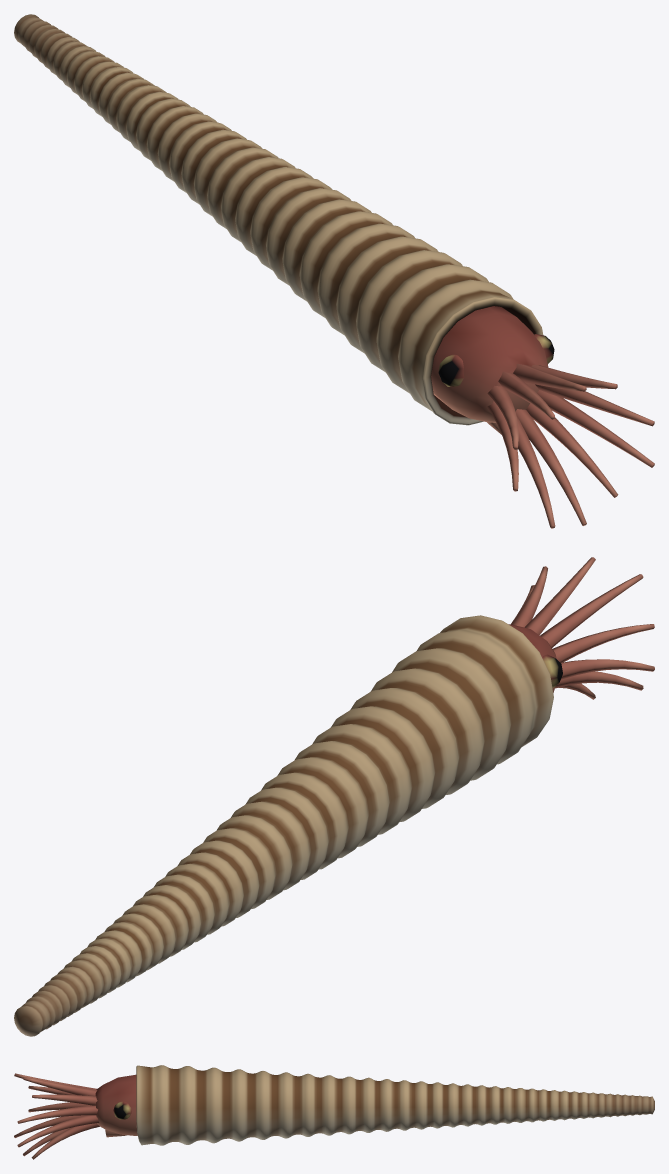
Rendered from DawsonocerasAnnulatum.fbx.
3 views of the same model, one above another, from view 1: azimuth 30°, elevation 25°; view 2: azimuth 150°, elevation 25°; view 3: azimuth 270°, elevation 25° (orthographic). The views are drawn at different scales.
Parts seen in each view (by area): view 1: DawsonocerasAnnulatum; view 2: DawsonocerasAnnulatum; view 3: DawsonocerasAnnulatum.
Boxes of the visible parts, x1,y1,x2,y2 form: DawsonocerasAnnulatum: (14, 14, 654, 528); DawsonocerasAnnulatum: (14, 557, 654, 1036); DawsonocerasAnnulatum: (14, 1065, 654, 1159).
Size of the model in its own units: 0.2653 by 0.296 by 1.98.
